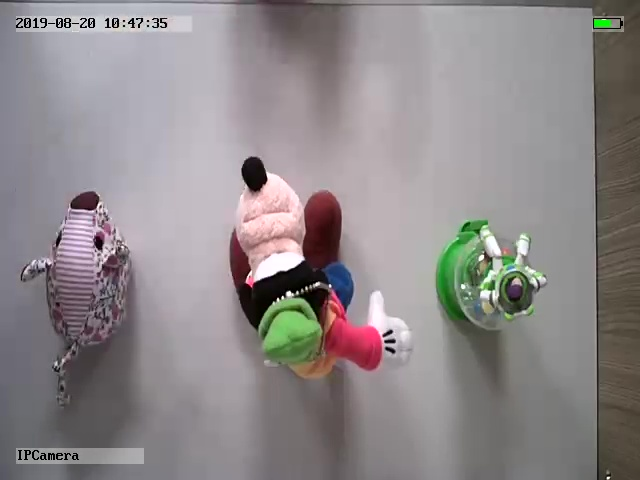buzz: (433, 217, 551, 335)
goofy: (224, 154, 417, 384)
pig: (18, 189, 134, 406)
